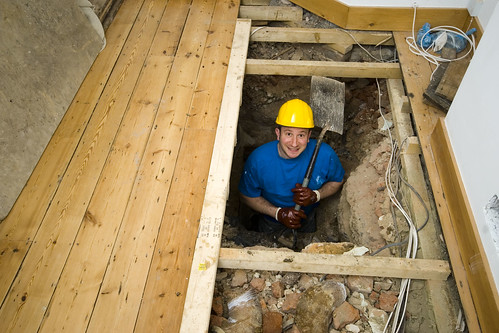person hardhat: (240, 95, 348, 238)
